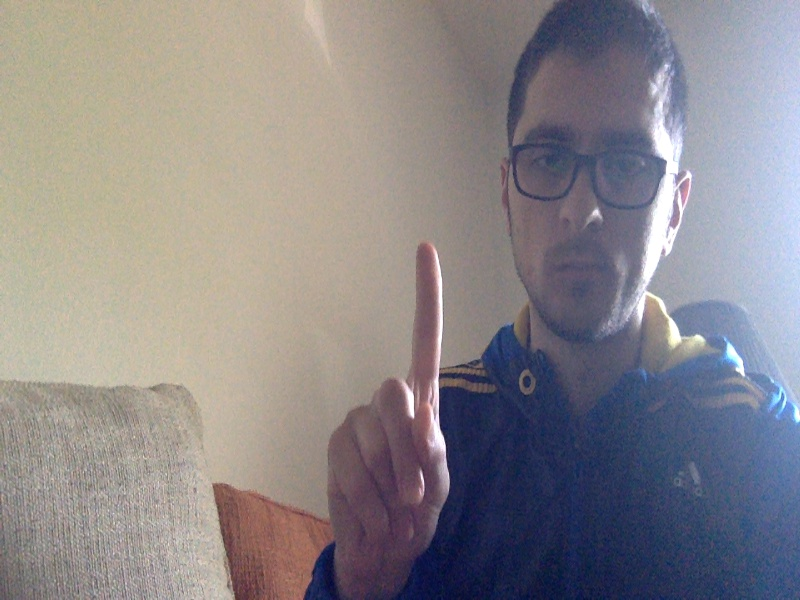1-hand: (325, 241, 447, 587)
